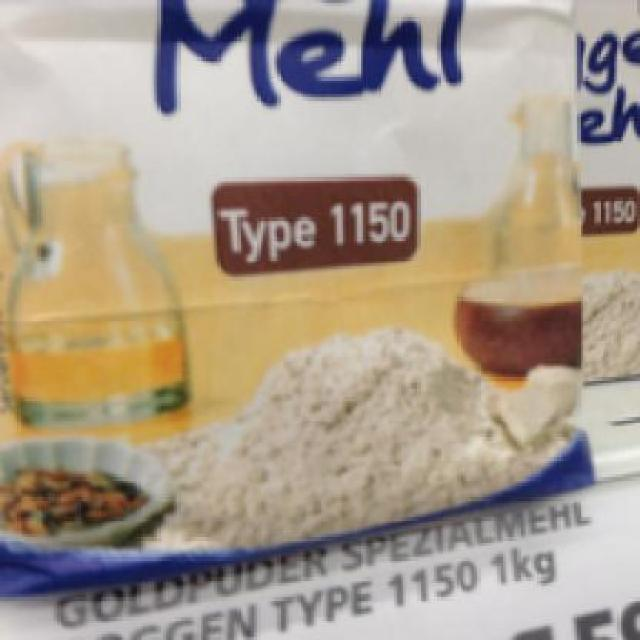Flour: (0, 0, 589, 589)
